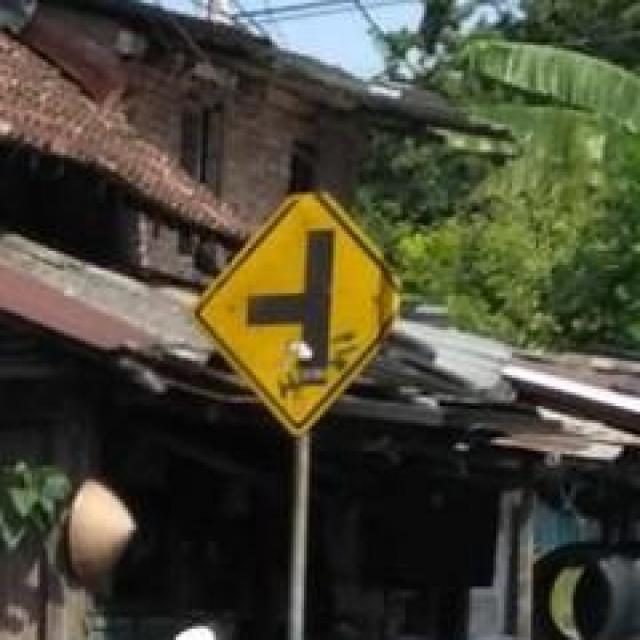traffic sign: (200, 189, 390, 428)
